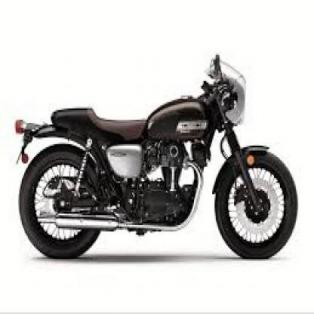Motocicleta: (12, 46, 304, 270)
